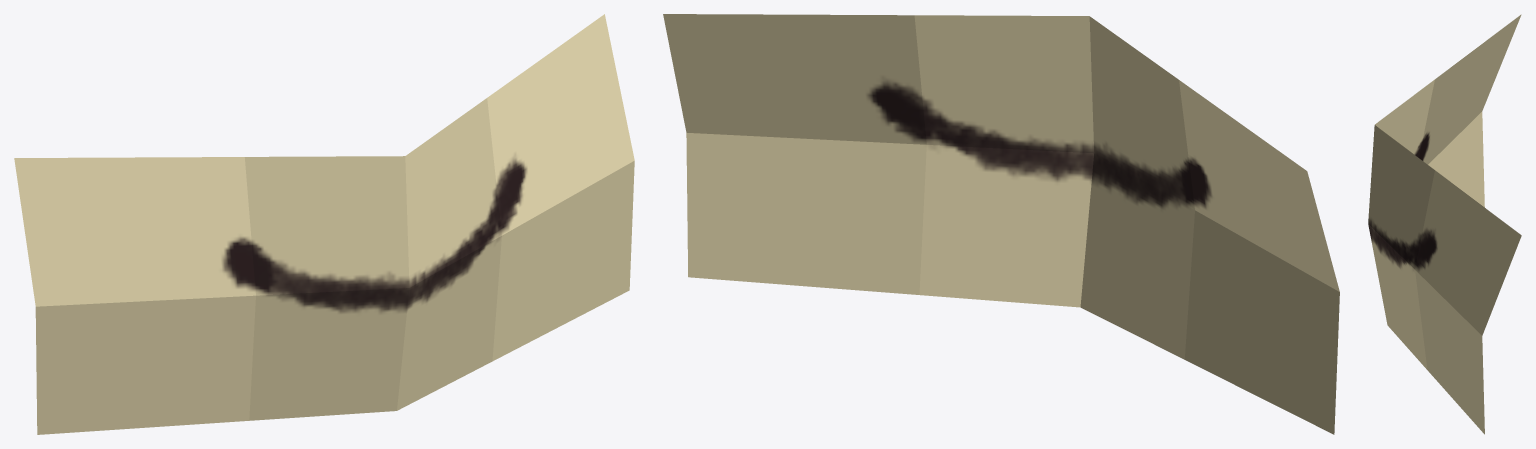
Rendered from mouth.glb.
The picture shows the model from 3 angles, left to right: view 1: azimuth 30°, elevation 25°; view 2: azimuth 150°, elevation 25°; view 3: azimuth 270°, elevation 25°; orthographic projection. The views are drawn at different scales.
Visible parts, largest first — view 1: mouth; view 2: mouth; view 3: mouth.
Part boxes in pixels (box(x1,y1,x2,y2)): mouth: box(14, 14, 634, 434); mouth: box(663, 14, 1339, 434); mouth: box(1368, 14, 1521, 434).
Size of the model in its own units: 0.1981 by 0.0825 by 0.0573.
Materials: 1 (1 with a texture image).
